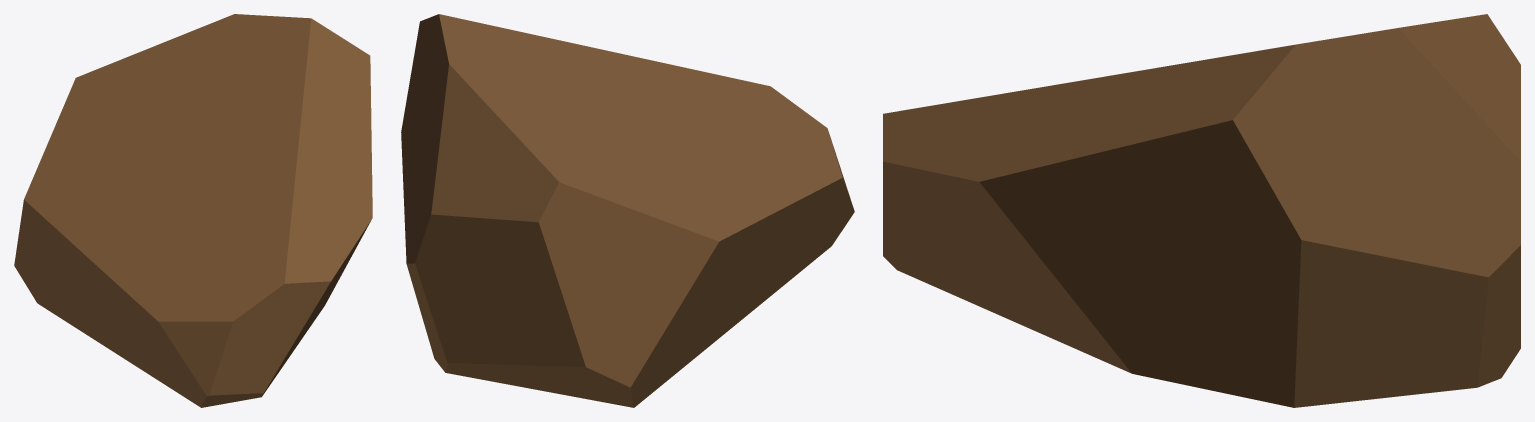
File: Piedra pequeña 1.fbx
3 renders of one model, left to right at view 1: azimuth 30°, elevation 25°; view 2: azimuth 150°, elevation 25°; view 3: azimuth 270°, elevation 25°, orthographic. The views are drawn at different scales.
Visible parts, largest first — view 1: Piedra 3; view 2: Piedra 3; view 3: Piedra 3.
Boxes of the visible parts, x1,y1,x2,y2 form: Piedra 3: [14, 14, 372, 407]; Piedra 3: [401, 14, 854, 407]; Piedra 3: [883, 14, 1520, 407].
Bounding box in the file's own units: 1.08 × 0.8872 × 1.28.
